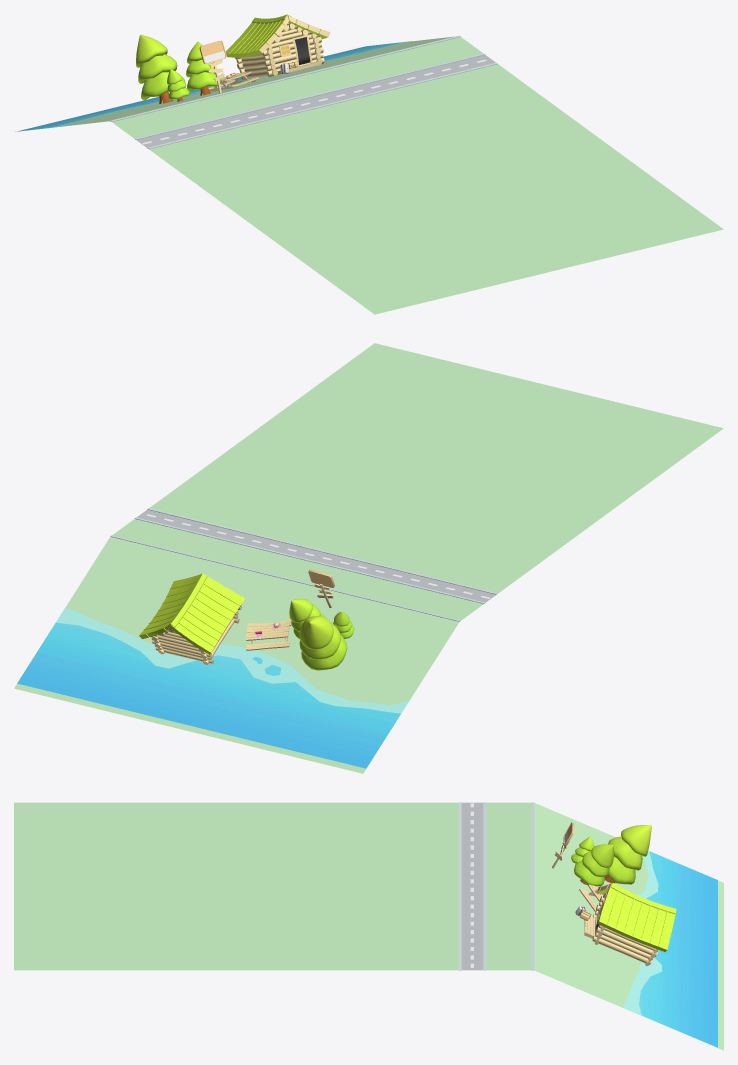
File: 05_Envi.fbx
3 views of the same model, one above another, from view 1: azimuth 30°, elevation 25°; view 2: azimuth 150°, elevation 25°; view 3: azimuth 270°, elevation 25° (orthographic).
Parts seen in each view (by area): view 1: 03_CarPlane.002, 03_Parking.003, house.001, 03_Road.007, Group011_Material #11267_1.001, 03_Plane.015, 03_Plane.016, tambien.001; view 2: 03_CarPlane.002, 03_Plane.016, 03_Plane.015, 03_Parking.003, house.001, 03_Road.007, Group011_Material #11267_1.001, table; view 3: 03_CarPlane.002, 03_Plane.015, 03_Plane.016, 03_Parking.003, house.001, 03_Road.007, Group011_Material #11267_1.001.
Boxes of the visible parts, <box> form: 03_CarPlane.002: <box>147,62,723,314</box>; 03_Parking.003: <box>110,35,485,139</box>; house.001: <box>225,14,330,79</box>; 03_Road.007: <box>136,55,495,147</box>; Group011_Material #11267_1.001: <box>136,34,220,103</box>; 03_Plane.015: <box>15,36,453,131</box>; 03_Plane.016: <box>18,41,412,131</box>; tambien.001: <box>199,40,226,93</box>; 03_CarPlane.002: <box>147,343,723,594</box>; 03_Plane.016: <box>17,608,409,768</box>; 03_Plane.015: <box>14,536,459,773</box>; 03_Parking.003: <box>110,517,485,621</box>; house.001: <box>139,573,244,664</box>; 03_Road.007: <box>137,509,496,602</box>; Group011_Material #11267_1.001: <box>289,598,354,670</box>; table: <box>246,619,291,650</box>; 03_CarPlane.002: <box>14,802,461,970</box>; 03_Plane.015: <box>534,803,723,1050</box>; 03_Plane.016: <box>624,851,717,1047</box>; 03_Parking.003: <box>483,802,534,970</box>; house.001: <box>575,883,676,966</box>; 03_Road.007: <box>461,802,483,970</box>; Group011_Material #11267_1.001: <box>571,825,651,886</box>.
Size of the model in its own units: 4000 by 1274 by 7156.
